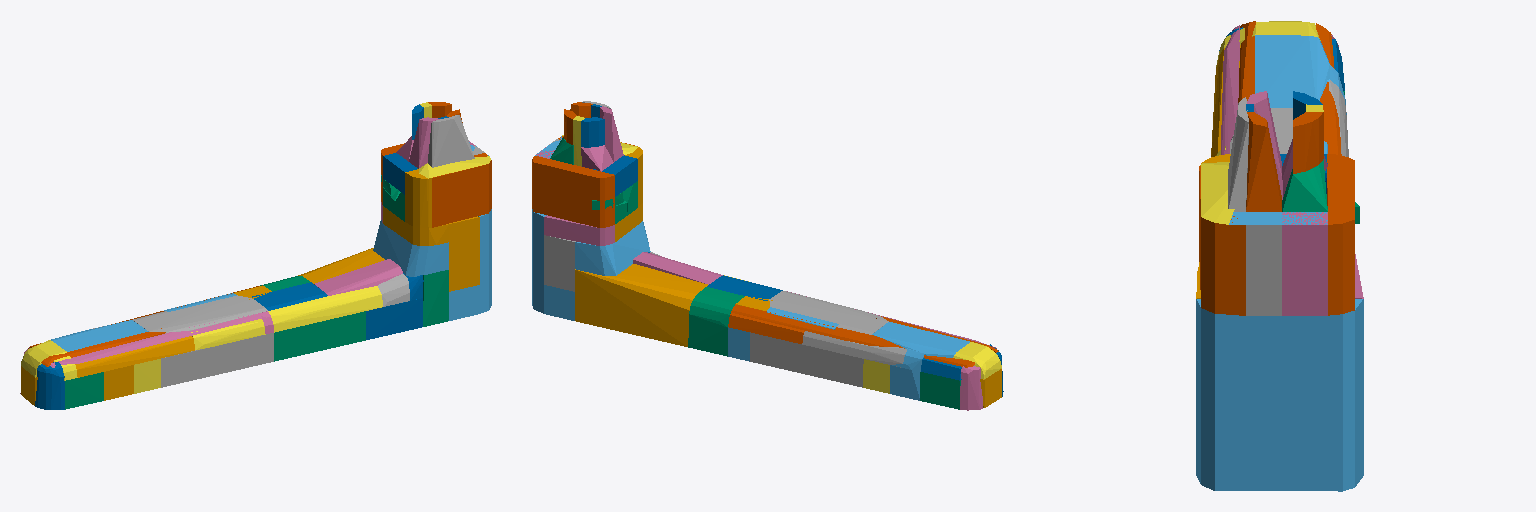
--- What the picture shows (computed from the rendered views, not written in the file) ---
The picture shows the robot from 3 angles, left to right: view 1: azimuth 30°, elevation 25°; view 2: azimuth 150°, elevation 25°; view 3: azimuth 270°, elevation 25°; orthographic projection.
Model root with 64 links and 63 joints (63 fixed), rooted at link_handle~handle4_convex_piece_0, posed every joint at zero.
Visible links, largest first — view 1: link_handle~handle4_convex_piece_63, link_handle~handle4_convex_piece_21, link_handle~handle4_convex_piece_58, link_handle~handle4_convex_piece_35, link_handle~handle4_convex_piece_47, link_handle~handle4_convex_piece_49, link_handle~handle4_convex_piece_8, link_handle~handle4_convex_piece_55, link_handle~handle4_convex_piece_48, link_handle~handle4_convex_piece_44, link_handle~handle4_convex_piece_46, link_handle~handle4_convex_piece_38 (+19 smaller); view 2: link_handle~handle4_convex_piece_56, link_handle~handle4_convex_piece_45, link_handle~handle4_convex_piece_63, link_handle~handle4_convex_piece_34, link_handle~handle4_convex_piece_49, link_handle~handle4_convex_piece_47, link_handle~handle4_convex_piece_61, link_handle~handle4_convex_piece_41, link_handle~handle4_convex_piece_7, link_handle~handle4_convex_piece_22, link_handle~handle4_convex_piece_57, link_handle~handle4_convex_piece_25 (+17 smaller); view 3: link_handle~handle4_convex_piece_25, link_handle~handle4_convex_piece_6, link_handle~handle4_convex_piece_41, link_handle~handle4_convex_piece_45, link_handle~handle4_convex_piece_21, link_handle~handle4_convex_piece_15, link_handle~handle4_convex_piece_53, link_handle~handle4_convex_piece_55, link_handle~handle4_convex_piece_26, link_handle~handle4_convex_piece_29, link_handle~handle4_convex_piece_38, link_handle~handle4_convex_piece_43 (+7 smaller).
Link boxes in pixels (<box>): link_handle~handle4_convex_piece_63: <box>161,333,273,387</box>; link_handle~handle4_convex_piece_21: <box>432,153,491,227</box>; link_handle~handle4_convex_piece_58: <box>274,311,365,361</box>; link_handle~handle4_convex_piece_35: <box>268,286,382,332</box>; link_handle~handle4_convex_piece_47: <box>134,295,267,333</box>; link_handle~handle4_convex_piece_49: <box>373,220,448,276</box>; link_handle~handle4_convex_piece_8: <box>449,216,479,291</box>; link_handle~handle4_convex_piece_55: <box>428,115,474,167</box>; link_handle~handle4_convex_piece_48: <box>75,336,194,377</box>; link_handle~handle4_convex_piece_44: <box>366,298,422,339</box>; link_handle~handle4_convex_piece_46: <box>314,259,402,295</box>; link_handle~handle4_convex_piece_38: <box>50,313,261,367</box>; link_handle~handle4_convex_piece_56: <box>575,264,707,346</box>; link_handle~handle4_convex_piece_45: <box>532,156,614,227</box>; link_handle~handle4_convex_piece_63: <box>750,332,863,387</box>; link_handle~handle4_convex_piece_34: <box>688,287,744,356</box>; link_handle~handle4_convex_piece_49: <box>575,221,650,275</box>; link_handle~handle4_convex_piece_47: <box>769,291,888,332</box>; link_handle~handle4_convex_piece_61: <box>731,304,974,367</box>; link_handle~handle4_convex_piece_41: <box>872,322,969,357</box>; link_handle~handle4_convex_piece_7: <box>544,235,575,291</box>; link_handle~handle4_convex_piece_22: <box>544,215,614,245</box>; link_handle~handle4_convex_piece_57: <box>890,348,924,400</box>; link_handle~handle4_convex_piece_25: <box>532,209,546,313</box>; link_handle~handle4_convex_piece_25: <box>1196,299,1363,491</box>; link_handle~handle4_convex_piece_6: <box>1282,212,1327,315</box>; link_handle~handle4_convex_piece_41: <box>1255,35,1329,107</box>; link_handle~handle4_convex_piece_45: <box>1327,154,1354,315</box>; link_handle~handle4_convex_piece_21: <box>1199,166,1245,315</box>; link_handle~handle4_convex_piece_15: <box>1246,225,1281,315</box>; link_handle~handle4_convex_piece_53: <box>1246,112,1281,211</box>; link_handle~handle4_convex_piece_55: <box>1228,97,1248,211</box>; link_handle~handle4_convex_piece_26: <box>1282,159,1327,211</box>; link_handle~handle4_convex_piece_29: <box>1293,112,1323,173</box>; link_handle~handle4_convex_piece_38: <box>1221,25,1239,154</box>; link_handle~handle4_convex_piece_43: <box>1201,162,1234,224</box>.
Bounding box of the posed robot: 0.1277 × 0.0227 × 0.052 m (x, y, z).
64 mesh visuals loaded from 64 distinct referenced files (64 OBJ).

The robot description file, URDF, robot "root":
<robot name="root">
  <link name="link_handle~handle4_convex_piece_0">
    <inertial>
      <origin xyz="0 0 0" rpy="0 0 0"/>
      <mass value="9.66E-04"/>
      <inertia ixx="1.10E-07" ixy="-2.01E-07" ixz="-5.53E-07" iyy="3.87E-06" iyz="-3.13E-08" izz="3.80E-06"/>
    </inertial>
    <visual>
      <origin xyz="0 0 0" rpy="0 0 0"/>
      <geometry>
        <mesh filename="handle~handle4_convex_piece_0.obj" scale="1.0000E+00 1.0000E+00 1.0000E+00"/>
      </geometry>
      <material name=""/>
    </visual>
    <collision>
      <origin xyz="0 0 0" rpy="0 0 0"/>
      <geometry>
        <mesh filename="handle~handle4_convex_piece_0.obj" scale="1.0000E+00 1.0000E+00 1.0000E+00"/>
      </geometry>
    </collision>
  </link>
  <link name="link_handle~handle4_convex_piece_1">
    <inertial>
      <origin xyz="0 0 0" rpy="0 0 0"/>
      <mass value="5.49E-04"/>
      <inertia ixx="7.18E-08" ixy="4.76E-08" ixz="-7.96E-08" iyy="1.89E-07" iyz="2.88E-08" izz="1.57E-07"/>
    </inertial>
    <visual>
      <origin xyz="0 0 0" rpy="0 0 0"/>
      <geometry>
        <mesh filename="handle~handle4_convex_piece_1.obj" scale="1.0000E+00 1.0000E+00 1.0000E+00"/>
      </geometry>
      <material name=""/>
    </visual>
    <collision>
      <origin xyz="0 0 0" rpy="0 0 0"/>
      <geometry>
        <mesh filename="handle~handle4_convex_piece_1.obj" scale="1.0000E+00 1.0000E+00 1.0000E+00"/>
      </geometry>
    </collision>
  </link>
  <joint name="link_handle~handle4_convex_piece_1_joint" type="fixed">
    <origin xyz="0 0 0" rpy="0 0 0"/>
    <parent link="link_handle~handle4_convex_piece_0"/>
    <child link="link_handle~handle4_convex_piece_1"/>
  </joint>
  <link name="link_handle~handle4_convex_piece_2">
    <inertial>
      <origin xyz="0 0 0" rpy="0 0 0"/>
      <mass value="1.30E-03"/>
      <inertia ixx="1.38E-07" ixy="1.82E-07" ixz="2.47E-07" iyy="1.01E-06" iyz="-4.94E-08" izz="9.71E-07"/>
    </inertial>
    <visual>
      <origin xyz="0 0 0" rpy="0 0 0"/>
      <geometry>
        <mesh filename="handle~handle4_convex_piece_2.obj" scale="1.0000E+00 1.0000E+00 1.0000E+00"/>
      </geometry>
      <material name=""/>
    </visual>
    <collision>
      <origin xyz="0 0 0" rpy="0 0 0"/>
      <geometry>
        <mesh filename="handle~handle4_convex_piece_2.obj" scale="1.0000E+00 1.0000E+00 1.0000E+00"/>
      </geometry>
    </collision>
  </link>
  <joint name="link_handle~handle4_convex_piece_2_joint" type="fixed">
    <origin xyz="0 0 0" rpy="0 0 0"/>
    <parent link="link_handle~handle4_convex_piece_1"/>
    <child link="link_handle~handle4_convex_piece_2"/>
  </joint>
  <link name="link_handle~handle4_convex_piece_3">
    <inertial>
      <origin xyz="0 0 0" rpy="0 0 0"/>
      <mass value="1.32E-03"/>
      <inertia ixx="1.67E-07" ixy="3.56E-09" ixz="-6.91E-07" iyy="4.07E-06" iyz="3.02E-10" izz="3.97E-06"/>
    </inertial>
    <visual>
      <origin xyz="0 0 0" rpy="0 0 0"/>
      <geometry>
        <mesh filename="handle~handle4_convex_piece_3.obj" scale="1.0000E+00 1.0000E+00 1.0000E+00"/>
      </geometry>
      <material name=""/>
    </visual>
    <collision>
      <origin xyz="0 0 0" rpy="0 0 0"/>
      <geometry>
        <mesh filename="handle~handle4_convex_piece_3.obj" scale="1.0000E+00 1.0000E+00 1.0000E+00"/>
      </geometry>
    </collision>
  </link>
  <joint name="link_handle~handle4_convex_piece_3_joint" type="fixed">
    <origin xyz="0 0 0" rpy="0 0 0"/>
    <parent link="link_handle~handle4_convex_piece_2"/>
    <child link="link_handle~handle4_convex_piece_3"/>
  </joint>
  <link name="link_handle~handle4_convex_piece_4">
    <inertial>
      <origin xyz="0 0 0" rpy="0 0 0"/>
      <mass value="1.26E-04"/>
      <inertia ixx="9.52E-09" ixy="2.07E-08" ixz="8.66E-09" iyy="5.88E-08" iyz="-3.23E-09" izz="6.50E-08"/>
    </inertial>
    <visual>
      <origin xyz="0 0 0" rpy="0 0 0"/>
      <geometry>
        <mesh filename="handle~handle4_convex_piece_4.obj" scale="1.0000E+00 1.0000E+00 1.0000E+00"/>
      </geometry>
      <material name=""/>
    </visual>
    <collision>
      <origin xyz="0 0 0" rpy="0 0 0"/>
      <geometry>
        <mesh filename="handle~handle4_convex_piece_4.obj" scale="1.0000E+00 1.0000E+00 1.0000E+00"/>
      </geometry>
    </collision>
  </link>
  <joint name="link_handle~handle4_convex_piece_4_joint" type="fixed">
    <origin xyz="0 0 0" rpy="0 0 0"/>
    <parent link="link_handle~handle4_convex_piece_3"/>
    <child link="link_handle~handle4_convex_piece_4"/>
  </joint>
  <link name="link_handle~handle4_convex_piece_5">
    <inertial>
      <origin xyz="0 0 0" rpy="0 0 0"/>
      <mass value="6.37E-05"/>
      <inertia ixx="4.13E-09" ixy="-8.38E-09" ixz="-1.26E-08" iyy="7.22E-08" iyz="-1.53E-09" izz="7.01E-08"/>
    </inertial>
    <visual>
      <origin xyz="0 0 0" rpy="0 0 0"/>
      <geometry>
        <mesh filename="handle~handle4_convex_piece_5.obj" scale="1.0000E+00 1.0000E+00 1.0000E+00"/>
      </geometry>
      <material name=""/>
    </visual>
    <collision>
      <origin xyz="0 0 0" rpy="0 0 0"/>
      <geometry>
        <mesh filename="handle~handle4_convex_piece_5.obj" scale="1.0000E+00 1.0000E+00 1.0000E+00"/>
      </geometry>
    </collision>
  </link>
  <joint name="link_handle~handle4_convex_piece_5_joint" type="fixed">
    <origin xyz="0 0 0" rpy="0 0 0"/>
    <parent link="link_handle~handle4_convex_piece_4"/>
    <child link="link_handle~handle4_convex_piece_5"/>
  </joint>
  <link name="link_handle~handle4_convex_piece_6">
    <inertial>
      <origin xyz="0 0 0" rpy="0 0 0"/>
      <mass value="4.26E-04"/>
      <inertia ixx="1.64E-07" ixy="-5.77E-08" ixz="-3.39E-07" iyy="9.14E-07" iyz="-2.60E-08" izz="7.62E-07"/>
    </inertial>
    <visual>
      <origin xyz="0 0 0" rpy="0 0 0"/>
      <geometry>
        <mesh filename="handle~handle4_convex_piece_6.obj" scale="1.0000E+00 1.0000E+00 1.0000E+00"/>
      </geometry>
      <material name=""/>
    </visual>
    <collision>
      <origin xyz="0 0 0" rpy="0 0 0"/>
      <geometry>
        <mesh filename="handle~handle4_convex_piece_6.obj" scale="1.0000E+00 1.0000E+00 1.0000E+00"/>
      </geometry>
    </collision>
  </link>
  <joint name="link_handle~handle4_convex_piece_6_joint" type="fixed">
    <origin xyz="0 0 0" rpy="0 0 0"/>
    <parent link="link_handle~handle4_convex_piece_5"/>
    <child link="link_handle~handle4_convex_piece_6"/>
  </joint>
  <link name="link_handle~handle4_convex_piece_7">
    <inertial>
      <origin xyz="0 0 0" rpy="0 0 0"/>
      <mass value="7.29E-04"/>
      <inertia ixx="6.05E-08" ixy="-2.02E-07" ixz="-1.78E-08" iyy="8.79E-07" iyz="-3.95E-09" izz="9.18E-07"/>
    </inertial>
    <visual>
      <origin xyz="0 0 0" rpy="0 0 0"/>
      <geometry>
        <mesh filename="handle~handle4_convex_piece_7.obj" scale="1.0000E+00 1.0000E+00 1.0000E+00"/>
      </geometry>
      <material name=""/>
    </visual>
    <collision>
      <origin xyz="0 0 0" rpy="0 0 0"/>
      <geometry>
        <mesh filename="handle~handle4_convex_piece_7.obj" scale="1.0000E+00 1.0000E+00 1.0000E+00"/>
      </geometry>
    </collision>
  </link>
  <joint name="link_handle~handle4_convex_piece_7_joint" type="fixed">
    <origin xyz="0 0 0" rpy="0 0 0"/>
    <parent link="link_handle~handle4_convex_piece_6"/>
    <child link="link_handle~handle4_convex_piece_7"/>
  </joint>
  <link name="link_handle~handle4_convex_piece_8">
    <inertial>
      <origin xyz="0 0 0" rpy="0 0 0"/>
      <mass value="1.00E-03"/>
      <inertia ixx="1.05E-07" ixy="2.76E-07" ixz="-1.09E-07" iyy="1.23E-06" iyz="2.52E-08" izz="1.26E-06"/>
    </inertial>
    <visual>
      <origin xyz="0 0 0" rpy="0 0 0"/>
      <geometry>
        <mesh filename="handle~handle4_convex_piece_8.obj" scale="1.0000E+00 1.0000E+00 1.0000E+00"/>
      </geometry>
      <material name=""/>
    </visual>
    <collision>
      <origin xyz="0 0 0" rpy="0 0 0"/>
      <geometry>
        <mesh filename="handle~handle4_convex_piece_8.obj" scale="1.0000E+00 1.0000E+00 1.0000E+00"/>
      </geometry>
    </collision>
  </link>
  <joint name="link_handle~handle4_convex_piece_8_joint" type="fixed">
    <origin xyz="0 0 0" rpy="0 0 0"/>
    <parent link="link_handle~handle4_convex_piece_7"/>
    <child link="link_handle~handle4_convex_piece_8"/>
  </joint>
  <link name="link_handle~handle4_convex_piece_9">
    <inertial>
      <origin xyz="0 0 0" rpy="0 0 0"/>
      <mass value="0.00E+00"/>
      <inertia ixx="5.80E-23" ixy="-0.00E+00" ixz="-5.80E-23" iyy="5.80E-23" iyz="-0.00E+00" izz="0.00E+00"/>
    </inertial>
    <visual>
      <origin xyz="0 0 0" rpy="0 0 0"/>
      <geometry>
        <mesh filename="handle~handle4_convex_piece_9.obj" scale="1.0000E+00 1.0000E+00 1.0000E+00"/>
      </geometry>
      <material name=""/>
    </visual>
    <collision>
      <origin xyz="0 0 0" rpy="0 0 0"/>
      <geometry>
        <mesh filename="handle~handle4_convex_piece_9.obj" scale="1.0000E+00 1.0000E+00 1.0000E+00"/>
      </geometry>
    </collision>
  </link>
  <joint name="link_handle~handle4_convex_piece_9_joint" type="fixed">
    <origin xyz="0 0 0" rpy="0 0 0"/>
    <parent link="link_handle~handle4_convex_piece_8"/>
    <child link="link_handle~handle4_convex_piece_9"/>
  </joint>
  <link name="link_handle~handle4_convex_piece_10">
    <inertial>
      <origin xyz="0 0 0" rpy="0 0 0"/>
      <mass value="7.95E-05"/>
      <inertia ixx="2.95E-08" ixy="-1.14E-08" ixz="-3.44E-08" iyy="7.14E-08" iyz="-8.72E-09" izz="4.84E-08"/>
    </inertial>
    <visual>
      <origin xyz="0 0 0" rpy="0 0 0"/>
      <geometry>
        <mesh filename="handle~handle4_convex_piece_10.obj" scale="1.0000E+00 1.0000E+00 1.0000E+00"/>
      </geometry>
      <material name=""/>
    </visual>
    <collision>
      <origin xyz="0 0 0" rpy="0 0 0"/>
      <geometry>
        <mesh filename="handle~handle4_convex_piece_10.obj" scale="1.0000E+00 1.0000E+00 1.0000E+00"/>
      </geometry>
    </collision>
  </link>
  <joint name="link_handle~handle4_convex_piece_10_joint" type="fixed">
    <origin xyz="0 0 0" rpy="0 0 0"/>
    <parent link="link_handle~handle4_convex_piece_9"/>
    <child link="link_handle~handle4_convex_piece_10"/>
  </joint>
  <link name="link_handle~handle4_convex_piece_11">
    <inertial>
      <origin xyz="0 0 0" rpy="0 0 0"/>
      <mass value="1.10E-04"/>
      <inertia ixx="8.50E-08" ixy="-1.58E-08" ixz="-9.57E-08" iyy="2.02E-07" iyz="-1.29E-08" izz="1.21E-07"/>
    </inertial>
    <visual>
      <origin xyz="0 0 0" rpy="0 0 0"/>
      <geometry>
        <mesh filename="handle~handle4_convex_piece_11.obj" scale="1.0000E+00 1.0000E+00 1.0000E+00"/>
      </geometry>
      <material name=""/>
    </visual>
    <collision>
      <origin xyz="0 0 0" rpy="0 0 0"/>
      <geometry>
        <mesh filename="handle~handle4_convex_piece_11.obj" scale="1.0000E+00 1.0000E+00 1.0000E+00"/>
      </geometry>
    </collision>
  </link>
  <joint name="link_handle~handle4_convex_piece_11_joint" type="fixed">
    <origin xyz="0 0 0" rpy="0 0 0"/>
    <parent link="link_handle~handle4_convex_piece_10"/>
    <child link="link_handle~handle4_convex_piece_11"/>
  </joint>
  <link name="link_handle~handle4_convex_piece_12">
    <inertial>
      <origin xyz="0 0 0" rpy="0 0 0"/>
      <mass value="5.61E-05"/>
      <inertia ixx="4.03E-09" ixy="2.89E-08" ixz="-1.80E-08" iyy="2.95E-07" iyz="1.80E-09" izz="2.97E-07"/>
    </inertial>
    <visual>
      <origin xyz="0 0 0" rpy="0 0 0"/>
      <geometry>
        <mesh filename="handle~handle4_convex_piece_12.obj" scale="1.0000E+00 1.0000E+00 1.0000E+00"/>
      </geometry>
      <material name=""/>
    </visual>
    <collision>
      <origin xyz="0 0 0" rpy="0 0 0"/>
      <geometry>
        <mesh filename="handle~handle4_convex_piece_12.obj" scale="1.0000E+00 1.0000E+00 1.0000E+00"/>
      </geometry>
    </collision>
  </link>
  <joint name="link_handle~handle4_convex_piece_12_joint" type="fixed">
    <origin xyz="0 0 0" rpy="0 0 0"/>
    <parent link="link_handle~handle4_convex_piece_11"/>
    <child link="link_handle~handle4_convex_piece_12"/>
  </joint>
  <link name="link_handle~handle4_convex_piece_13">
    <inertial>
      <origin xyz="0 0 0" rpy="0 0 0"/>
      <mass value="1.04E-04"/>
      <inertia ixx="9.45E-09" ixy="1.99E-08" ixz="-1.05E-08" iyy="6.02E-08" iyz="3.88E-09" izz="6.54E-08"/>
    </inertial>
    <visual>
      <origin xyz="0 0 0" rpy="0 0 0"/>
      <geometry>
        <mesh filename="handle~handle4_convex_piece_13.obj" scale="1.0000E+00 1.0000E+00 1.0000E+00"/>
      </geometry>
      <material name=""/>
    </visual>
    <collision>
      <origin xyz="0 0 0" rpy="0 0 0"/>
      <geometry>
        <mesh filename="handle~handle4_convex_piece_13.obj" scale="1.0000E+00 1.0000E+00 1.0000E+00"/>
      </geometry>
    </collision>
  </link>
  <joint name="link_handle~handle4_convex_piece_13_joint" type="fixed">
    <origin xyz="0 0 0" rpy="0 0 0"/>
    <parent link="link_handle~handle4_convex_piece_12"/>
    <child link="link_handle~handle4_convex_piece_13"/>
  </joint>
  <link name="link_handle~handle4_convex_piece_14">
    <inertial>
      <origin xyz="0 0 0" rpy="0 0 0"/>
      <mass value="1.01E-04"/>
      <inertia ixx="1.33E-08" ixy="5.02E-08" ixz="-7.29E-08" iyy="6.50E-07" iyz="5.75E-09" izz="6.45E-07"/>
    </inertial>
    <visual>
      <origin xyz="0 0 0" rpy="0 0 0"/>
      <geometry>
        <mesh filename="handle~handle4_convex_piece_14.obj" scale="1.0000E+00 1.0000E+00 1.0000E+00"/>
      </geometry>
      <material name=""/>
    </visual>
    <collision>
      <origin xyz="0 0 0" rpy="0 0 0"/>
      <geometry>
        <mesh filename="handle~handle4_convex_piece_14.obj" scale="1.0000E+00 1.0000E+00 1.0000E+00"/>
      </geometry>
    </collision>
  </link>
  <joint name="link_handle~handle4_convex_piece_14_joint" type="fixed">
    <origin xyz="0 0 0" rpy="0 0 0"/>
    <parent link="link_handle~handle4_convex_piece_13"/>
    <child link="link_handle~handle4_convex_piece_14"/>
  </joint>
  <link name="link_handle~handle4_convex_piece_15">
    <inertial>
      <origin xyz="0 0 0" rpy="0 0 0"/>
      <mass value="6.59E-04"/>
      <inertia ixx="2.51E-07" ixy="5.80E-08" ixz="-4.97E-07" iyy="1.30E-06" iyz="2.77E-08" izz="1.06E-06"/>
    </inertial>
    <visual>
      <origin xyz="0 0 0" rpy="0 0 0"/>
      <geometry>
        <mesh filename="handle~handle4_convex_piece_15.obj" scale="1.0000E+00 1.0000E+00 1.0000E+00"/>
      </geometry>
      <material name=""/>
    </visual>
    <collision>
      <origin xyz="0 0 0" rpy="0 0 0"/>
      <geometry>
        <mesh filename="handle~handle4_convex_piece_15.obj" scale="1.0000E+00 1.0000E+00 1.0000E+00"/>
      </geometry>
    </collision>
  </link>
  <joint name="link_handle~handle4_convex_piece_15_joint" type="fixed">
    <origin xyz="0 0 0" rpy="0 0 0"/>
    <parent link="link_handle~handle4_convex_piece_14"/>
    <child link="link_handle~handle4_convex_piece_15"/>
  </joint>
  <link name="link_handle~handle4_convex_piece_16">
    <inertial>
      <origin xyz="0 0 0" rpy="0 0 0"/>
      <mass value="3.86E-04"/>
      <inertia ixx="4.54E-08" ixy="2.09E-08" ixz="-3.15E-07" iyy="2.54E-06" iyz="2.73E-09" izz="2.50E-06"/>
    </inertial>
    <visual>
      <origin xyz="0 0 0" rpy="0 0 0"/>
      <geometry>
        <mesh filename="handle~handle4_convex_piece_16.obj" scale="1.0000E+00 1.0000E+00 1.0000E+00"/>
      </geometry>
      <material name=""/>
    </visual>
    <collision>
      <origin xyz="0 0 0" rpy="0 0 0"/>
      <geometry>
        <mesh filename="handle~handle4_convex_piece_16.obj" scale="1.0000E+00 1.0000E+00 1.0000E+00"/>
      </geometry>
    </collision>
  </link>
  <joint name="link_handle~handle4_convex_piece_16_joint" type="fixed">
    <origin xyz="0 0 0" rpy="0 0 0"/>
    <parent link="link_handle~handle4_convex_piece_15"/>
    <child link="link_handle~handle4_convex_piece_16"/>
  </joint>
  <link name="link_handle~handle4_convex_piece_17">
    <inertial>
      <origin xyz="0 0 0" rpy="0 0 0"/>
      <mass value="1.62E-03"/>
      <inertia ixx="2.50E-07" ixy="-6.40E-10" ixz="5.82E-07" iyy="2.15E-06" iyz="1.82E-10" izz="2.04E-06"/>
    </inertial>
    <visual>
      <origin xyz="0 0 0" rpy="0 0 0"/>
      <geometry>
        <mesh filename="handle~handle4_convex_piece_17.obj" scale="1.0000E+00 1.0000E+00 1.0000E+00"/>
      </geometry>
      <material name=""/>
    </visual>
    <collision>
      <origin xyz="0 0 0" rpy="0 0 0"/>
      <geometry>
        <mesh filename="handle~handle4_convex_piece_17.obj" scale="1.0000E+00 1.0000E+00 1.0000E+00"/>
      </geometry>
    </collision>
  </link>
  <joint name="link_handle~handle4_convex_piece_17_joint" type="fixed">
    <origin xyz="0 0 0" rpy="0 0 0"/>
    <parent link="link_handle~handle4_convex_piece_16"/>
    <child link="link_handle~handle4_convex_piece_17"/>
  </joint>
  <link name="link_handle~handle4_convex_piece_18">
    <inertial>
      <origin xyz="0 0 0" rpy="0 0 0"/>
      <mass value="1.58E-03"/>
      <inertia ixx="2.16E-07" ixy="1.80E-09" ixz="-1.18E-06" iyy="8.41E-06" iyz="1.77E-10" izz="8.28E-06"/>
    </inertial>
    <visual>
      <origin xyz="0 0 0" rpy="0 0 0"/>
      <geometry>
        <mesh filename="handle~handle4_convex_piece_18.obj" scale="1.0000E+00 1.0000E+00 1.0000E+00"/>
      </geometry>
      <material name=""/>
    </visual>
    <collision>
      <origin xyz="0 0 0" rpy="0 0 0"/>
      <geometry>
        <mesh filename="handle~handle4_convex_piece_18.obj" scale="1.0000E+00 1.0000E+00 1.0000E+00"/>
      </geometry>
    </collision>
  </link>
  <joint name="link_handle~handle4_convex_piece_18_joint" type="fixed">
    <origin xyz="0 0 0" rpy="0 0 0"/>
    <parent link="link_handle~handle4_convex_piece_17"/>
    <child link="link_handle~handle4_convex_piece_18"/>
  </joint>
  <link name="link_handle~handle4_convex_piece_19">
    <inertial>
      <origin xyz="0 0 0" rpy="0 0 0"/>
      <mass value="3.68E-04"/>
      <inertia ixx="1.62E-08" ixy="-1.26E-12" ixz="-4.61E-08" iyy="5.04E-07" iyz="-1.18E-13" izz="4.93E-07"/>
    </inertial>
    <visual>
      <origin xyz="0 0 0" rpy="0 0 0"/>
      <geometry>
        <mesh filename="handle~handle4_convex_piece_19.obj" scale="1.0000E+00 1.0000E+00 1.0000E+00"/>
      </geometry>
      <material name=""/>
    </visual>
    <collision>
      <origin xyz="0 0 0" rpy="0 0 0"/>
      <geometry>
        <mesh filename="handle~handle4_convex_piece_19.obj" scale="1.0000E+00 1.0000E+00 1.0000E+00"/>
      </geometry>
    </collision>
  </link>
  <joint name="link_handle~handle4_convex_piece_19_joint" type="fixed">
    <origin xyz="0 0 0" rpy="0 0 0"/>
    <parent link="link_handle~handle4_convex_piece_18"/>
    <child link="link_handle~handle4_convex_piece_19"/>
  </joint>
  <link name="link_handle~handle4_convex_piece_20">
    <inertial>
      <origin xyz="0 0 0" rpy="0 0 0"/>
      <mass value="1.97E-04"/>
      <inertia ixx="2.42E-08" ixy="-8.39E-08" ixz="-1.43E-07" iyy="1.27E-06" iyz="-9.59E-09" izz="1.26E-06"/>
    </inertial>
    <visual>
      <origin xyz="0 0 0" rpy="0 0 0"/>
      <geometry>
        <mesh filename="handle~handle4_convex_piece_20.obj" scale="1.0000E+00 1.0000E+00 1.0000E+00"/>
      </geometry>
      <material name=""/>
    </visual>
    <collision>
      <origin xyz="0 0 0" rpy="0 0 0"/>
      <geometry>
        <mesh filename="handle~handle4_convex_piece_20.obj" scale="1.0000E+00 1.0000E+00 1.0000E+00"/>
      </geometry>
    </collision>
  </link>
  <joint name="link_handle~handle4_convex_piece_20_joint" type="fixed">
    <origin xyz="0 0 0" rpy="0 0 0"/>
    <parent link="link_handle~handle4_convex_piece_19"/>
    <child link="link_handle~handle4_convex_piece_20"/>
  </joint>
  <link name="link_handle~handle4_convex_piece_21">
    <inertial>
      <origin xyz="0 0 0" rpy="0 0 0"/>
      <mass value="1.69E-03"/>
      <inertia ixx="7.28E-07" ixy="4.37E-07" ixz="-1.09E-06" iyy="2.65E-06" iyz="2.41E-07" izz="2.13E-06"/>
    </inertial>
    <visual>
      <origin xyz="0 0 0" rpy="0 0 0"/>
      <geometry>
        <mesh filename="handle~handle4_convex_piece_21.obj" scale="1.0000E+00 1.0000E+00 1.0000E+00"/>
      </geometry>
      <material name=""/>
    </visual>
    <collision>
      <origin xyz="0 0 0" rpy="0 0 0"/>
      <geometry>
        <mesh filename="handle~handle4_convex_piece_21.obj" scale="1.0000E+00 1.0000E+00 1.0000E+00"/>
      </geometry>
    </collision>
  </link>
  <joint name="link_handle~handle4_convex_piece_21_joint" type="fixed">
    <origin xyz="0 0 0" rpy="0 0 0"/>
    <parent link="link_handle~handle4_convex_piece_20"/>
    <child link="link_handle~handle4_convex_piece_21"/>
  </joint>
  <link name="link_handle~handle4_convex_piece_22">
    <inertial>
      <origin xyz="0 0 0" rpy="0 0 0"/>
      <mass value="4.37E-04"/>
      <inertia ixx="7.14E-08" ixy="-1.10E-07" ixz="-1.32E-07" iyy="4.75E-07" iyz="-3.41E-08" izz="4.63E-07"/>
    </inertial>
    <visual>
      <origin xyz="0 0 0" rpy="0 0 0"/>
      <geometry>
        <mesh filename="handle~handle4_convex_piece_22.obj" scale="1.0000E+00 1.0000E+00 1.0000E+00"/>
      </geometry>
      <material name=""/>
    </visual>
    <collision>
      <origin xyz="0 0 0" rpy="0 0 0"/>
      <geometry>
        <mesh filename="handle~handle4_convex_piece_22.obj" scale="1.0000E+00 1.0000E+00 1.0000E+00"/>
      </geometry>
    </collision>
  </link>
  <joint name="link_handle~handle4_convex_piece_22_joint" type="fixed">
    <origin xyz="0 0 0" rpy="0 0 0"/>
    <parent link="link_handle~handle4_convex_piece_21"/>
    <child link="link_handle~handle4_convex_piece_22"/>
  </joint>
  <link name="link_handle~handle4_convex_piece_23">
    <inertial>
      <origin xyz="0 0 0" rpy="0 0 0"/>
      <mass value="5.21E-05"/>
      <inertia ixx="4.34E-09" ixy="2.30E-08" ixz="-1.30E-08" iyy="1.66E-07" iyz="1.86E-09" izz="1.68E-07"/>
    </inertial>
    <visual>
      <origin xyz="0 0 0" rpy="0 0 0"/>
      <geometry>
        <mesh filename="handle~handle4_convex_piece_23.obj" scale="1.0000E+00 1.0000E+00 1.0000E+00"/>
      </geometry>
      <material name=""/>
    </visual>
    <collision>
      <origin xyz="0 0 0" rpy="0 0 0"/>
      <geometry>
        <mesh filename="handle~handle4_convex_piece_23.obj" scale="1.0000E+00 1.0000E+00 1.0000E+00"/>
      </geometry>
    </collision>
  </link>
  <joint name="link_handle~handle4_convex_piece_23_joint" type="fixed">
    <origin xyz="0 0 0" rpy="0 0 0"/>
    <parent link="link_handle~handle4_convex_piece_22"/>
    <child link="link_handle~handle4_convex_piece_23"/>
  </joint>
  <link name="link_handle~handle4_convex_piece_24">
    <inertial>
      <origin xyz="0 0 0" rpy="0 0 0"/>
      <mass value="2.36E-04"/>
      <inertia ixx="1.08E-07" ixy="4.22E-08" ixz="-1.10E-07" iyy="2.28E-07" iyz="3.44E-08" izz="1.48E-07"/>
    </inertial>
    <visual>
      <origin xyz="0 0 0" rpy="0 0 0"/>
      <geometry>
        <mesh filename="handle~handle4_convex_piece_24.obj" scale="1.0000E+00 1.0000E+00 1.0000E+00"/>
      </geometry>
      <material name=""/>
    </visual>
    <collision>
      <origin xyz="0 0 0" rpy="0 0 0"/>
      <geometry>
        <mesh filename="handle~handle4_convex_piece_24.obj" scale="1.0000E+00 1.0000E+00 1.0000E+00"/>
      </geometry>
    </collision>
  </link>
  <joint name="link_handle~handle4_convex_piece_24_joint" type="fixed">
    <origin xyz="0 0 0" rpy="0 0 0"/>
    <parent link="link_handle~handle4_convex_piece_23"/>
    <child link="link_handle~handle4_convex_piece_24"/>
  </joint>
  <link name="link_handle~handle4_convex_piece_25">
    <inertial>
      <origin xyz="0 0 0" rpy="0 0 0"/>
      <mass value="2.85E-03"/>
      <inertia ixx="2.75E-07" ixy="-2.49E-10" ixz="1.26E-07" iyy="5.06E-06" iyz="-4.95E-12" izz="5.00E-06"/>
    </inertial>
    <visual>
      <origin xyz="0 0 0" rpy="0 0 0"/>
      <geometry>
        <mesh filename="handle~handle4_convex_piece_25.obj" scale="1.0000E+00 1.0000E+00 1.0000E+00"/>
      </geometry>
      <material name=""/>
    </visual>
    <collision>
      <origin xyz="0 0 0" rpy="0 0 0"/>
      <geometry>
        <mesh filename="handle~handle4_convex_piece_25.obj" scale="1.0000E+00 1.0000E+00 1.0000E+00"/>
      </geometry>
    </collision>
  </link>
  <joint name="link_handle~handle4_convex_piece_25_joint" type="fixed">
    <origin xyz="0 0 0" rpy="0 0 0"/>
    <parent link="link_handle~handle4_convex_piece_24"/>
    <child link="link_handle~handle4_convex_piece_25"/>
  </joint>
  <link name="link_handle~handle4_convex_piece_26">
    <inertial>
      <origin xyz="0 0 0" rpy="0 0 0"/>
      <mass value="5.97E-04"/>
      <inertia ixx="2.83E-07" ixy="-8.32E-08" ixz="-4.70E-07" iyy="1.13E-06" iyz="-4.53E-08" izz="8.68E-07"/>
    </inertial>
    <visual>
      <origin xyz="0 0 0" rpy="0 0 0"/>
      <geometry>
        <mesh filename="handle~handle4_convex_piece_26.obj" scale="1.0000E+00 1.0000E+00 1.0000E+00"/>
      </geometry>
      <material name=""/>
    </visual>
    <collision>
      <origin xyz="0 0 0" rpy="0 0 0"/>
      <geometry>
        <mesh filename="handle~handle4_convex_piece_26.obj" scale="1.0000E+00 1.0000E+00 1.0000E+00"/>
      </geometry>
    </collision>
  </link>
  <joint name="link_handle~handle4_convex_piece_26_joint" type="fixed">
    <origin xyz="0 0 0" rpy="0 0 0"/>
    <parent link="link_handle~handle4_convex_piece_25"/>
    <child link="link_handle~handle4_convex_piece_26"/>
  </joint>
  <link name="link_handle~handle4_convex_piece_27">
    <inertial>
      <origin xyz="0 0 0" rpy="0 0 0"/>
      <mass value="9.42E-05"/>
      <inertia ixx="8.77E-09" ixy="-2.44E-08" ixz="-1.29E-08" iyy="9.31E-08" iyz="-3.61E-09" izz="9.79E-08"/>
    </inertial>
    <visual>
      <origin xyz="0 0 0" rpy="0 0 0"/>
      <geometry>
        <mesh filename="handle~handle4_convex_piece_27.obj" scale="1.0000E+00 1.0000E+00 1.0000E+00"/>
      </geometry>
      <material name=""/>
    </visual>
    <collision>
      <origin xyz="0 0 0" rpy="0 0 0"/>
      <geometry>
        <mesh filename="handle~handle4_convex_piece_27.obj" scale="1.0000E+00 1.0000E+00 1.0000E+00"/>
      </geometry>
    </collision>
  </link>
  <joint name="link_handle~handle4_convex_piece_27_joint" type="fixed">
    <origin xyz="0 0 0" rpy="0 0 0"/>
    <parent link="link_handle~handle4_convex_piece_26"/>
    <child link="link_handle~handle4_convex_piece_27"/>
  </joint>
  <link name="link_handle~handle4_convex_piece_28">
    <inertial>
      <origin xyz="0 0 0" rpy="0 0 0"/>
      <mass value="7.24E-05"/>
      <inertia ixx="8.57E-08" ixy="-7.64E-09" ixz="-7.39E-08" iyy="1.49E-07" iyz="-8.68E-09" izz="6.56E-08"/>
    </inertial>
    <visual>
      <origin xyz="0 0 0" rpy="0 0 0"/>
      <geometry>
        <mesh filename="handle~handle4_convex_piece_28.obj" scale="1.0000E+00 1.0000E+00 1.0000E+00"/>
      </geometry>
      <material name=""/>
    </visual>
    <collision>
      <origin xyz="0 0 0" rpy="0 0 0"/>
      <geometry>
        <mesh filename="handle~handle4_convex_piece_28.obj" scale="1.0000E+00 1.0000E+00 1.0000E+00"/>
      </geometry>
    </collision>
  </link>
  <joint name="link_handle~handle4_convex_piece_28_joint" type="fixed">
    <origin xyz="0 0 0" rpy="0 0 0"/>
    <parent link="link_handle~handle4_convex_piece_27"/>
    <child link="link_handle~handle4_convex_piece_28"/>
  </joint>
  <link name="link_handle~handle4_convex_piece_29">
    <inertial>
      <origin xyz="0 0 0" rpy="0 0 0"/>
      <mass value="8.22E-05"/>
      <inertia ixx="9.76E-08" ixy="-1.06E-08" ixz="-1.02E-07" iyy="2.04E-07" iyz="-1.01E-08" izz="1.09E-07"/>
    </inertial>
    <visual>
      <origin xyz="0 0 0" rpy="0 0 0"/>
      <geometry>
        <mesh filename="handle~handle4_convex_piece_29.obj" scale="1.0000E+00 1.0000E+00 1.0000E+00"/>
      </geometry>
      <material name=""/>
    </visual>
    <collision>
      <origin xyz="0 0 0" rpy="0 0 0"/>
      <geometry>
        <mesh filename="handle~handle4_convex_piece_29.obj" scale="1.0000E+00 1.0000E+00 1.0000E+00"/>
      </geometry>
    </collision>
  </link>
  <joint name="link_handle~handle4_convex_piece_29_joint" type="fixed">
    <origin xyz="0 0 0" rpy="0 0 0"/>
    <parent link="link_handle~handle4_convex_piece_28"/>
    <child link="link_handle~handle4_convex_piece_29"/>
  </joint>
  <link name="link_handle~handle4_convex_piece_30">
    <inertial>
      <origin xyz="0 0 0" rpy="0 0 0"/>
      <mass value="2.30E-05"/>
      <inertia ixx="1.69E-09" ixy="-3.50E-09" ixz="-1.66E-09" iyy="9.55E-09" iyz="-6.53E-10" izz="1.06E-08"/>
    </inertial>
    <visual>
      <origin xyz="0 0 0" rpy="0 0 0"/>
      <geometry>
        <mesh filename="handle~handle4_convex_piece_30.obj" scale="1.0000E+00 1.0000E+00 1.0000E+00"/>
      </geometry>
      <material name=""/>
    </visual>
    <collision>
      <origin xyz="0 0 0" rpy="0 0 0"/>
      <geometry>
        <mesh filename="handle~handle4_convex_piece_30.obj" scale="1.0000E+00 1.0000E+00 1.0000E+00"/>
      </geometry>
    </collision>
  </link>
  <joint name="link_handle~handle4_convex_piece_30_joint" type="fixed">
    <origin xyz="0 0 0" rpy="0 0 0"/>
    <parent link="link_handle~handle4_convex_piece_29"/>
    <child link="link_handle~handle4_convex_piece_30"/>
  </joint>
  <link name="link_handle~handle4_convex_piece_31">
    <inertial>
      <origin xyz="0 0 0" rpy="0 0 0"/>
      <mass value="6.12E-05"/>
      <inertia ixx="5.96E-09" ixy="8.94E-09" ixz="3.44E-09" iyy="1.70E-08" iyz="-2.02E-09" izz="2.12E-08"/>
    </inertial>
    <visual>
      <origin xyz="0 0 0" rpy="0 0 0"/>
      <geometry>
        <mesh filename="handle~handle4_convex_piece_31.obj" scale="1.0000E+00 1.0000E+00 1.0000E+00"/>
      </geometry>
      <material name=""/>
    </visual>
    <collision>
      <origin xyz="0 0 0" rpy="0 0 0"/>
      <geometry>
        <mesh filename="handle~handle4_convex_piece_31.obj" scale="1.0000E+00 1.0000E+00 1.0000E+00"/>
      </geometry>
    </collision>
  </link>
  <joint name="link_handle~handle4_convex_piece_31_joint" type="fixed">
    <origin xyz="0 0 0" rpy="0 0 0"/>
    <parent link="link_handle~handle4_convex_piece_30"/>
    <child link="link_handle~handle4_convex_piece_31"/>
  </joint>
  <link name="link_handle~handle4_convex_piece_32">
    <inertial>
      <origin xyz="0 0 0" rpy="0 0 0"/>
      <mass value="7.07E-04"/>
      <inertia ixx="8.77E-08" ixy="4.75E-08" ixz="-1.80E-07" iyy="5.57E-07" iyz="1.71E-08" izz="5.09E-07"/>
    </inertial>
    <visual>
      <origin xyz="0 0 0" rpy="0 0 0"/>
      <geometry>
        <mesh filename="handle~handle4_convex_piece_32.obj" scale="1.0000E+00 1.0000E+00 1.0000E+00"/>
      </geometry>
      <material name=""/>
    </visual>
    <collision>
      <origin xyz="0 0 0" rpy="0 0 0"/>
      <geometry>
        <mesh filename="handle~handle4_convex_piece_32.obj" scale="1.0000E+00 1.0000E+00 1.0000E+00"/>
      </geometry>
    </collision>
  </link>
  <joint name="link_handle~handle4_convex_piece_32_joint" type="fixed">
    <origin xyz="0 0 0" rpy="0 0 0"/>
    <parent link="link_handle~handle4_convex_piece_31"/>
    <child link="link_handle~handle4_convex_piece_32"/>
  </joint>
  <link name="link_handle~handle4_convex_piece_33">
    <inertial>
      <origin xyz="0 0 0" rpy="0 0 0"/>
      <mass value="1.36E-04"/>
      <inertia ixx="6.46E-09" ixy="2.48E-08" ixz="-1.21E-08" iyy="1.31E-07" iyz="2.56E-09" izz="1.34E-07"/>
    </inertial>
    <visual>
      <origin xyz="0 0 0" rpy="0 0 0"/>
      <geometry>
        <mesh filename="handle~handle4_convex_piece_33.obj" scale="1.0000E+00 1.0000E+00 1.0000E+00"/>
      </geometry>
      <material name=""/>
    </visual>
    <collision>
      <origin xyz="0 0 0" rpy="0 0 0"/>
      <geometry>
        <mesh filename="handle~handle4_convex_piece_33.obj" scale="1.0000E+00 1.0000E+00 1.0000E+00"/>
      </geometry>
    </collision>
  </link>
  <joint name="link_handle~handle4_convex_piece_33_joint" type="fixed">
    <origin xyz="0 0 0" rpy="0 0 0"/>
    <parent link="link_handle~handle4_convex_piece_32"/>
    <child link="link_handle~handle4_convex_piece_33"/>
  </joint>
  <link name="link_handle~handle4_convex_piece_34">
    <inertial>
      <origin xyz="0 0 0" rpy="0 0 0"/>
      <mass value="1.24E-03"/>
      <inertia ixx="1.46E-07" ixy="4.99E-08" ixz="-7.10E-08" iyy="1.72E-07" iyz="5.89E-08" izz="1.22E-07"/>
    </inertial>
    <visual>
      <origin xyz="0 0 0" rpy="0 0 0"/>
      <geometry>
        <mesh filename="handle~handle4_convex_piece_34.obj" scale="1.0000E+00 1.0000E+00 1.0000E+00"/>
      </geometry>
      <material name=""/>
    </visual>
    <collision>
      <origin xyz="0 0 0" rpy="0 0 0"/>
      <geometry>
        <mesh filename="handle~handle4_convex_piece_34.obj" scale="1.0000E+00 1.0000E+00 1.0000E+00"/>
      </geometry>
    </collision>
  </link>
  <joint name="link_handle~handle4_convex_piece_34_joint" type="fixed">
    <origin xyz="0 0 0" rpy="0 0 0"/>
    <parent link="link_handle~handle4_convex_piece_33"/>
    <child link="link_handle~handle4_convex_piece_34"/>
  </joint>
  <link name="link_handle~handle4_convex_piece_35">
    <inertial>
      <origin xyz="0 0 0" rpy="0 0 0"/>
      <mass value="1.69E-04"/>
      <inertia ixx="1.62E-08" ixy="-4.46E-09" ixz="-2.24E-09" iyy="1.75E-08" iyz="-6.09E-09" izz="2.78E-08"/>
    </inertial>
    <visual>
      <origin xyz="0 0 0" rpy="0 0 0"/>
      <geometry>
        <mesh filename="handle~handle4_convex_piece_35.obj" scale="1.0000E+00 1.0000E+00 1.0000E+00"/>
      </geometry>
      <material name=""/>
    </visual>
    <collision>
      <origin xyz="0 0 0" rpy="0 0 0"/>
      <geometry>
        <mesh filename="handle~handle4_convex_piece_35.obj" scale="1.0000E+00 1.0000E+00 1.0000E+00"/>
      </geometry>
    </collision>
  </link>
  <joint name="link_handle~handle4_convex_piece_35_joint" type="fixed">
    <origin xyz="0 0 0" rpy="0 0 0"/>
    <parent link="link_handle~handle4_convex_piece_34"/>
    <child link="link_handle~handle4_convex_piece_35"/>
  </joint>
  <link name="link_handle~handle4_convex_piece_36">
    <inertial>
      <origin xyz="0 0 0" rpy="0 0 0"/>
      <mass value="4.37E-04"/>
      <inertia ixx="1.49E-08" ixy="-1.83E-08" ixz="-1.32E-08" iyy="6.02E-08" iyz="-6.14E-09" izz="6.64E-08"/>
    </inertial>
    <visual>
      <origin xyz="0 0 0" rpy="0 0 0"/>
      <geometry>
        <mesh filename="handle~handle4_convex_piece_36.obj" scale="1.0000E+00 1.0000E+00 1.0000E+00"/>
      </geometry>
      <material name=""/>
    </visual>
    <collision>
      <origin xyz="0 0 0" rpy="0 0 0"/>
      <geometry>
        <mesh filename="handle~handle4_convex_piece_36.obj" scale="1.0000E+00 1.0000E+00 1.0000E+00"/>
      </geometry>
    </collision>
  </link>
  <joint name="link_handle~handle4_convex_piece_36_joint" type="fixed">
    <origin xyz="0 0 0" rpy="0 0 0"/>
    <parent link="link_handle~handle4_convex_piece_35"/>
    <child link="link_handle~handle4_convex_piece_36"/>
  </joint>
  <link name="link_handle~handle4_convex_piece_37">
    <inertial>
      <origin xyz="0 0 0" rpy="0 0 0"/>
      <mass value="8.27E-05"/>
      <inertia ixx="1.98E-09" ixy="-2.26E-08" ixz="-1.14E-08" iyy="3.39E-07" iyz="-7.80E-10" izz="3.41E-07"/>
    </inertial>
    <visual>
      <origin xyz="0 0 0" rpy="0 0 0"/>
      <geometry>
        <mesh filename="handle~handle4_convex_piece_37.obj" scale="1.0000E+00 1.0000E+00 1.0000E+00"/>
      </geometry>
      <material name=""/>
    </visual>
    <collision>
      <origin xyz="0 0 0" rpy="0 0 0"/>
      <geometry>
        <mesh filename="handle~handle4_convex_piece_37.obj" scale="1.0000E+00 1.0000E+00 1.0000E+00"/>
      </geometry>
    </collision>
  </link>
  <joint name="link_handle~handle4_convex_piece_37_joint" type="fixed">
    <origin xyz="0 0 0" rpy="0 0 0"/>
    <parent link="link_handle~handle4_convex_piece_36"/>
    <child link="link_handle~handle4_convex_piece_37"/>
  </joint>
  <link name="link_handle~handle4_convex_piece_38">
    <inertial>
      <origin xyz="0 0 0" rpy="0 0 0"/>
      <mass value="7.99E-05"/>
      <inertia ixx="4.12E-09" ixy="-2.59E-08" ixz="-1.02E-08" iyy="2.11E-07" iyz="-1.37E-09" izz="2.14E-07"/>
    </inertial>
    <visual>
      <origin xyz="0 0 0" rpy="0 0 0"/>
      <geometry>
        <mesh filename="handle~handle4_convex_piece_38.obj" scale="1.0000E+00 1.0000E+00 1.0000E+00"/>
      </geometry>
      <material name=""/>
    </visual>
    <collision>
      <origin xyz="0 0 0" rpy="0 0 0"/>
      <geometry>
        <mesh filename="handle~handle4_convex_piece_38.obj" scale="1.0000E+00 1.0000E+00 1.0000E+00"/>
      </geometry>
    </collision>
  </link>
  <joint name="link_handle~handle4_convex_piece_38_joint" type="fixed">
    <origin xyz="0 0 0" rpy="0 0 0"/>
    <parent link="link_handle~handle4_convex_piece_37"/>
    <child link="link_handle~handle4_convex_piece_38"/>
  </joint>
  <link name="link_handle~handle4_convex_piece_39">
    <inertial>
      <origin xyz="0 0 0" rpy="0 0 0"/>
      <mass value="1.60E-04"/>
      <inertia ixx="1.03E-08" ixy="4.69E-08" ixz="-2.40E-08" iyy="2.89E-07" iyz="4.18E-09" izz="2.95E-07"/>
    </inertial>
    <visual>
      <origin xyz="0 0 0" rpy="0 0 0"/>
      <geometry>
        <mesh filename="handle~handle4_convex_piece_39.obj" scale="1.0000E+00 1.0000E+00 1.0000E+00"/>
      </geometry>
      <material name=""/>
    </visual>
    <collision>
      <origin xyz="0 0 0" rpy="0 0 0"/>
      <geometry>
        <mesh filename="handle~handle4_convex_piece_39.obj" scale="1.0000E+00 1.0000E+00 1.0000E+00"/>
      </geometry>
    </collision>
  </link>
  <joint name="link_handle~handle4_convex_piece_39_joint" type="fixed">
    <origin xyz="0 0 0" rpy="0 0 0"/>
    <parent link="link_handle~handle4_convex_piece_38"/>
    <child link="link_handle~handle4_convex_piece_39"/>
  </joint>
  <link name="link_handle~handle4_convex_piece_40">
    <inertial>
      <origin xyz="0 0 0" rpy="0 0 0"/>
      <mass value="1.46E-04"/>
      <inertia ixx="5.48E-09" ixy="1.20E-08" ixz="-7.54E-09" iyy="4.51E-08" iyz="2.35E-09" izz="4.75E-08"/>
    </inertial>
    <visual>
      <origin xyz="0 0 0" rpy="0 0 0"/>
      <geometry>
        <mesh filename="handle~handle4_convex_piece_40.obj" scale="1.0000E+00 1.0000E+00 1.0000E+00"/>
      </geometry>
      <material name=""/>
    </visual>
    <collision>
      <origin xyz="0 0 0" rpy="0 0 0"/>
      <geometry>
        <mesh filename="handle~handle4_convex_piece_40.obj" scale="1.0000E+00 1.0000E+00 1.0000E+00"/>
      </geometry>
    </collision>
  </link>
  <joint name="link_handle~handle4_convex_piece_40_joint" type="fixed">
    <origin xyz="0 0 0" rpy="0 0 0"/>
    <parent link="link_handle~handle4_convex_piece_39"/>
    <child link="link_handle~handle4_convex_piece_40"/>
  </joint>
  <link name="link_handle~handle4_convex_piece_41">
    <inertial>
      <origin xyz="0 0 0" rpy="0 0 0"/>
      <mass value="6.87E-04"/>
      <inertia ixx="1.81E-08" ixy="1.19E-07" ixz="-1.31E-07" iyy="2.73E-06" iyz="7.14E-09" izz="2.73E-06"/>
    </inertial>
    <visual>
      <origin xyz="0 0 0" rpy="0 0 0"/>
      <geometry>
        <mesh filename="handle~handle4_convex_piece_41.obj" scale="1.0000E+00 1.0000E+00 1.0000E+00"/>
      </geometry>
      <material name=""/>
    </visual>
    <collision>
      <origin xyz="0 0 0" rpy="0 0 0"/>
      <geometry>
        <mesh filename="handle~handle4_convex_piece_41.obj" scale="1.0000E+00 1.0000E+00 1.0000E+00"/>
      </geometry>
    </collision>
  </link>
  <joint name="link_handle~handle4_convex_piece_41_joint" type="fixed">
    <origin xyz="0 0 0" rpy="0 0 0"/>
    <parent link="link_handle~handle4_convex_piece_40"/>
    <child link="link_handle~handle4_convex_piece_41"/>
  </joint>
  <link name="link_handle~handle4_convex_piece_42">
    <inertial>
      <origin xyz="0 0 0" rpy="0 0 0"/>
      <mass value="3.02E-04"/>
      <inertia ixx="7.59E-08" ixy="1.97E-08" ixz="-1.23E-07" iyy="2.85E-07" iyz="1.18E-08" izz="2.14E-07"/>
    </inertial>
    <visual>
      <origin xyz="0 0 0" rpy="0 0 0"/>
      <geometry>
        <mesh filename="handle~handle4_convex_piece_42.obj" scale="1.0000E+00 1.0000E+00 1.0000E+00"/>
      </geometry>
      <material name=""/>
    </visual>
    <collision>
      <origin xyz="0 0 0" rpy="0 0 0"/>
      <geometry>
        <mesh filename="handle~handle4_convex_piece_42.obj" scale="1.0000E+00 1.0000E+00 1.0000E+00"/>
      </geometry>
    </collision>
  </link>
  <joint name="link_handle~handle4_convex_piece_42_joint" type="fixed">
    <origin xyz="0 0 0" rpy="0 0 0"/>
    <parent link="link_handle~handle4_convex_piece_41"/>
    <child link="link_handle~handle4_convex_piece_42"/>
  </joint>
  <link name="link_handle~handle4_convex_piece_43">
    <inertial>
      <origin xyz="0 0 0" rpy="0 0 0"/>
      <mass value="4.19E-05"/>
      <inertia ixx="3.05E-08" ixy="9.54E-09" ixz="-3.51E-08" iyy="7.27E-08" iyz="7.64E-09" izz="4.65E-08"/>
    </inertial>
    <visual>
      <origin xyz="0 0 0" rpy="0 0 0"/>
      <geometry>
        <mesh filename="handle~handle4_convex_piece_43.obj" scale="1.0000E+00 1.0000E+00 1.0000E+00"/>
      </geometry>
      <material name=""/>
    </visual>
    <collision>
      <origin xyz="0 0 0" rpy="0 0 0"/>
      <geometry>
        <mesh filename="handle~handle4_convex_piece_43.obj" scale="1.0000E+00 1.0000E+00 1.0000E+00"/>
      </geometry>
    </collision>
  </link>
  <joint name="link_handle~handle4_convex_piece_43_joint" type="fixed">
    <origin xyz="0 0 0" rpy="0 0 0"/>
    <parent link="link_handle~handle4_convex_piece_42"/>
    <child link="link_handle~handle4_convex_piece_43"/>
  </joint>
  <link name="link_handle~handle4_convex_piece_44">
    <inertial>
      <origin xyz="0 0 0" rpy="0 0 0"/>
      <mass value="1.75E-03"/>
      <inertia ixx="2.36E-07" ixy="1.32E-07" ixz="2.51E-07" iyy="5.95E-07" iyz="-8.61E-08" izz="4.83E-07"/>
    </inertial>
    <visual>
      <origin xyz="0 0 0" rpy="0 0 0"/>
      <geometry>
        <mesh filename="handle~handle4_convex_piece_44.obj" scale="1.0000E+00 1.0000E+00 1.0000E+00"/>
      </geometry>
      <material name=""/>
    </visual>
    <collision>
      <origin xyz="0 0 0" rpy="0 0 0"/>
      <geometry>
        <mesh filename="handle~handle4_convex_piece_44.obj" scale="1.0000E+00 1.0000E+00 1.0000E+00"/>
      </geometry>
    </collision>
  </link>
  <joint name="link_handle~handle4_convex_piece_44_joint" type="fixed">
    <origin xyz="0 0 0" rpy="0 0 0"/>
    <parent link="link_handle~handle4_convex_piece_43"/>
    <child link="link_handle~handle4_convex_piece_44"/>
  </joint>
  <link name="link_handle~handle4_convex_piece_45">
    <inertial>
      <origin xyz="0 0 0" rpy="0 0 0"/>
      <mass value="1.14E-03"/>
      <inertia ixx="5.04E-07" ixy="-3.11E-07" ixz="-7.15E-07" iyy="1.72E-06" iyz="-1.77E-07" izz="1.37E-06"/>
    </inertial>
    <visual>
      <origin xyz="0 0 0" rpy="0 0 0"/>
      <geometry>
        <mesh filename="handle~handle4_convex_piece_45.obj" scale="1.0000E+00 1.0000E+00 1.0000E+00"/>
      </geometry>
      <material name=""/>
    </visual>
    <collision>
      <origin xyz="0 0 0" rpy="0 0 0"/>
      <geometry>
        <mesh filename="handle~handle4_convex_piece_45.obj" scale="1.0000E+00 1.0000E+00 1.0000E+00"/>
      </geometry>
    </collision>
  </link>
  <joint name="link_handle~handle4_convex_piece_45_joint" type="fixed">
    <origin xyz="0 0 0" rpy="0 0 0"/>
    <parent link="link_handle~handle4_convex_piece_44"/>
    <child link="link_handle~handle4_convex_piece_45"/>
  </joint>
  <link name="link_handle~handle4_convex_piece_46">
    <inertial>
      <origin xyz="0 0 0" rpy="0 0 0"/>
      <mass value="1.04E-03"/>
      <inertia ixx="3.66E-08" ixy="4.78E-08" ixz="3.91E-08" iyy="2.03E-07" iyz="-1.46E-08" izz="2.14E-07"/>
    </inertial>
    <visual>
      <origin xyz="0 0 0" rpy="0 0 0"/>
      <geometry>
        <mesh filename="handle~handle4_convex_piece_46.obj" scale="1.0000E+00 1.0000E+00 1.0000E+00"/>
      </geometry>
      <material name=""/>
    </visual>
    <collision>
      <origin xyz="0 0 0" rpy="0 0 0"/>
      <geometry>
        <mesh filename="handle~handle4_convex_piece_46.obj" scale="1.0000E+00 1.0000E+00 1.0000E+00"/>
      </geometry>
    </collision>
  </link>
  <joint name="link_handle~handle4_convex_piece_46_joint" type="fixed">
    <origin xyz="0 0 0" rpy="0 0 0"/>
    <parent link="link_handle~handle4_convex_piece_45"/>
    <child link="link_handle~handle4_convex_piece_46"/>
  </joint>
  <link name="link_handle~handle4_convex_piece_47">
    <inertial>
      <origin xyz="0 0 0" rpy="0 0 0"/>
      <mass value="1.02E-03"/>
      <inertia ixx="2.81E-08" ixy="-9.16E-08" ixz="-1.05E-07" iyy="1.31E-06" iyz="-1.02E-08" izz="1.31E-06"/>
    </inertial>
    <visual>
      <origin xyz="0 0 0" rpy="0 0 0"/>
      <geometry>
        <mesh filename="handle~handle4_convex_piece_47.obj" scale="1.0000E+00 1.0000E+00 1.0000E+00"/>
      </geometry>
      <material name=""/>
    </visual>
    <collision>
      <origin xyz="0 0 0" rpy="0 0 0"/>
      <geometry>
        <mesh filename="handle~handle4_convex_piece_47.obj" scale="1.0000E+00 1.0000E+00 1.0000E+00"/>
      </geometry>
    </collision>
  </link>
  <joint name="link_handle~handle4_convex_piece_47_joint" type="fixed">
    <origin xyz="0 0 0" rpy="0 0 0"/>
    <parent link="link_handle~handle4_convex_piece_46"/>
    <child link="link_handle~handle4_convex_piece_47"/>
  </joint>
  <link name="link_handle~handle4_convex_piece_48">
    <inertial>
      <origin xyz="0 0 0" rpy="0 0 0"/>
      <mass value="2.59E-04"/>
      <inertia ixx="1.71E-08" ixy="-1.02E-07" ixz="-5.98E-08" iyy="8.84E-07" iyz="-7.39E-09" izz="8.92E-07"/>
    </inertial>
    <visual>
      <origin xyz="0 0 0" rpy="0 0 0"/>
      <geometry>
        <mesh filename="handle~handle4_convex_piece_48.obj" scale="1.0000E+00 1.0000E+00 1.0000E+00"/>
      </geometry>
      <material name=""/>
    </visual>
    <collision>
      <origin xyz="0 0 0" rpy="0 0 0"/>
      <geometry>
        <mesh filename="handle~handle4_convex_piece_48.obj" scale="1.0000E+00 1.0000E+00 1.0000E+00"/>
      </geometry>
    </collision>
  </link>
  <joint name="link_handle~handle4_convex_piece_48_joint" type="fixed">
    <origin xyz="0 0 0" rpy="0 0 0"/>
    <parent link="link_handle~handle4_convex_piece_47"/>
    <child link="link_handle~handle4_convex_piece_48"/>
  </joint>
  <link name="link_handle~handle4_convex_piece_49">
    <inertial>
      <origin xyz="0 0 0" rpy="0 0 0"/>
      <mass value="1.62E-03"/>
      <inertia ixx="8.37E-08" ixy="2.47E-09" ixz="-1.36E-07" iyy="1.11E-06" iyz="2.75E-10" izz="1.14E-06"/>
    </inertial>
    <visual>
      <origin xyz="0 0 0" rpy="0 0 0"/>
      <geometry>
        <mesh filename="handle~handle4_convex_piece_49.obj" scale="1.0000E+00 1.0000E+00 1.0000E+00"/>
      </geometry>
      <material name=""/>
    </visual>
    <collision>
      <origin xyz="0 0 0" rpy="0 0 0"/>
      <geometry>
        <mesh filename="handle~handle4_convex_piece_49.obj" scale="1.0000E+00 1.0000E+00 1.0000E+00"/>
      </geometry>
    </collision>
  </link>
  <joint name="link_handle~handle4_convex_piece_49_joint" type="fixed">
    <origin xyz="0 0 0" rpy="0 0 0"/>
    <parent link="link_handle~handle4_convex_piece_48"/>
    <child link="link_handle~handle4_convex_piece_49"/>
  </joint>
  <link name="link_handle~handle4_convex_piece_50">
    <inertial>
      <origin xyz="0 0 0" rpy="0 0 0"/>
      <mass value="2.92E-04"/>
      <inertia ixx="7.21E-08" ixy="-2.46E-08" ixz="-1.17E-07" iyy="2.72E-07" iyz="-1.44E-08" izz="2.07E-07"/>
    </inertial>
    <visual>
      <origin xyz="0 0 0" rpy="0 0 0"/>
      <geometry>
        <mesh filename="handle~handle4_convex_piece_50.obj" scale="1.0000E+00 1.0000E+00 1.0000E+00"/>
      </geometry>
      <material name=""/>
    </visual>
    <collision>
      <origin xyz="0 0 0" rpy="0 0 0"/>
      <geometry>
        <mesh filename="handle~handle4_convex_piece_50.obj" scale="1.0000E+00 1.0000E+00 1.0000E+00"/>
      </geometry>
    </collision>
  </link>
  <joint name="link_handle~handle4_convex_piece_50_joint" type="fixed">
    <origin xyz="0 0 0" rpy="0 0 0"/>
    <parent link="link_handle~handle4_convex_piece_49"/>
    <child link="link_handle~handle4_convex_piece_50"/>
  </joint>
  <link name="link_handle~handle4_convex_piece_51">
    <inertial>
      <origin xyz="0 0 0" rpy="0 0 0"/>
      <mass value="4.64E-04"/>
      <inertia ixx="1.52E-08" ixy="-1.63E-08" ixz="-1.52E-07" iyy="2.82E-06" iyz="-1.07E-09" izz="2.82E-06"/>
    </inertial>
    <visual>
      <origin xyz="0 0 0" rpy="0 0 0"/>
      <geometry>
        <mesh filename="handle~handle4_convex_piece_51.obj" scale="1.0000E+00 1.0000E+00 1.0000E+00"/>
      </geometry>
      <material name=""/>
    </visual>
    <collision>
      <origin xyz="0 0 0" rpy="0 0 0"/>
      <geometry>
        <mesh filename="handle~handle4_convex_piece_51.obj" scale="1.0000E+00 1.0000E+00 1.0000E+00"/>
      </geometry>
    </collision>
  </link>
  <joint name="link_handle~handle4_convex_piece_51_joint" type="fixed">
    <origin xyz="0 0 0" rpy="0 0 0"/>
    <parent link="link_handle~handle4_convex_piece_50"/>
    <child link="link_handle~handle4_convex_piece_51"/>
  </joint>
  <link name="link_handle~handle4_convex_piece_52">
    <inertial>
      <origin xyz="0 0 0" rpy="0 0 0"/>
      <mass value="1.82E-04"/>
      <inertia ixx="7.00E-08" ixy="2.41E-08" ixz="-9.36E-08" iyy="2.65E-07" iyz="1.15E-08" izz="2.00E-07"/>
    </inertial>
    <visual>
      <origin xyz="0 0 0" rpy="0 0 0"/>
      <geometry>
        <mesh filename="handle~handle4_convex_piece_52.obj" scale="1.0000E+00 1.0000E+00 1.0000E+00"/>
      </geometry>
      <material name=""/>
    </visual>
    <collision>
      <origin xyz="0 0 0" rpy="0 0 0"/>
      <geometry>
        <mesh filename="handle~handle4_convex_piece_52.obj" scale="1.0000E+00 1.0000E+00 1.0000E+00"/>
      </geometry>
    </collision>
  </link>
  <joint name="link_handle~handle4_convex_piece_52_joint" type="fixed">
    <origin xyz="0 0 0" rpy="0 0 0"/>
    <parent link="link_handle~handle4_convex_piece_51"/>
    <child link="link_handle~handle4_convex_piece_52"/>
  </joint>
  <link name="link_handle~handle4_convex_piece_53">
    <inertial>
      <origin xyz="0 0 0" rpy="0 0 0"/>
      <mass value="2.14E-04"/>
      <inertia ixx="2.05E-07" ixy="2.10E-08" ixz="-2.44E-07" iyy="5.00E-07" iyz="1.75E-08" izz="2.98E-07"/>
    </inertial>
    <visual>
      <origin xyz="0 0 0" rpy="0 0 0"/>
      <geometry>
        <mesh filename="handle~handle4_convex_piece_53.obj" scale="1.0000E+00 1.0000E+00 1.0000E+00"/>
      </geometry>
      <material name=""/>
    </visual>
    <collision>
      <origin xyz="0 0 0" rpy="0 0 0"/>
      <geometry>
        <mesh filename="handle~handle4_convex_piece_53.obj" scale="1.0000E+00 1.0000E+00 1.0000E+00"/>
      </geometry>
    </collision>
  </link>
  <joint name="link_handle~handle4_convex_piece_53_joint" type="fixed">
    <origin xyz="0 0 0" rpy="0 0 0"/>
    <parent link="link_handle~handle4_convex_piece_52"/>
    <child link="link_handle~handle4_convex_piece_53"/>
  </joint>
  <link name="link_handle~handle4_convex_piece_54">
    <inertial>
      <origin xyz="0 0 0" rpy="0 0 0"/>
      <mass value="3.63E-04"/>
      <inertia ixx="2.85E-07" ixy="2.64E-08" ixz="-2.86E-07" iyy="5.80E-07" iyz="2.55E-08" izz="3.00E-07"/>
    </inertial>
    <visual>
      <origin xyz="0 0 0" rpy="0 0 0"/>
      <geometry>
        <mesh filename="handle~handle4_convex_piece_54.obj" scale="1.0000E+00 1.0000E+00 1.0000E+00"/>
      </geometry>
      <material name=""/>
    </visual>
    <collision>
      <origin xyz="0 0 0" rpy="0 0 0"/>
      <geometry>
        <mesh filename="handle~handle4_convex_piece_54.obj" scale="1.0000E+00 1.0000E+00 1.0000E+00"/>
      </geometry>
    </collision>
  </link>
  <joint name="link_handle~handle4_convex_piece_54_joint" type="fixed">
    <origin xyz="0 0 0" rpy="0 0 0"/>
    <parent link="link_handle~handle4_convex_piece_53"/>
    <child link="link_handle~handle4_convex_piece_54"/>
  </joint>
  <link name="link_handle~handle4_convex_piece_55">
    <inertial>
      <origin xyz="0 0 0" rpy="0 0 0"/>
      <mass value="2.66E-04"/>
      <inertia ixx="2.58E-07" ixy="4.80E-08" ixz="-2.73E-07" iyy="5.54E-07" iyz="4.32E-08" izz="3.12E-07"/>
    </inertial>
    <visual>
      <origin xyz="0 0 0" rpy="0 0 0"/>
      <geometry>
        <mesh filename="handle~handle4_convex_piece_55.obj" scale="1.0000E+00 1.0000E+00 1.0000E+00"/>
      </geometry>
      <material name=""/>
    </visual>
    <collision>
      <origin xyz="0 0 0" rpy="0 0 0"/>
      <geometry>
        <mesh filename="handle~handle4_convex_piece_55.obj" scale="1.0000E+00 1.0000E+00 1.0000E+00"/>
      </geometry>
    </collision>
  </link>
  <joint name="link_handle~handle4_convex_piece_55_joint" type="fixed">
    <origin xyz="0 0 0" rpy="0 0 0"/>
    <parent link="link_handle~handle4_convex_piece_54"/>
    <child link="link_handle~handle4_convex_piece_55"/>
  </joint>
  <link name="link_handle~handle4_convex_piece_56">
    <inertial>
      <origin xyz="0 0 0" rpy="0 0 0"/>
      <mass value="4.65E-03"/>
      <inertia ixx="5.23E-07" ixy="-3.92E-07" ixz="5.22E-07" iyy="1.78E-06" iyz="1.96E-07" izz="1.62E-06"/>
    </inertial>
    <visual>
      <origin xyz="0 0 0" rpy="0 0 0"/>
      <geometry>
        <mesh filename="handle~handle4_convex_piece_56.obj" scale="1.0000E+00 1.0000E+00 1.0000E+00"/>
      </geometry>
      <material name=""/>
    </visual>
    <collision>
      <origin xyz="0 0 0" rpy="0 0 0"/>
      <geometry>
        <mesh filename="handle~handle4_convex_piece_56.obj" scale="1.0000E+00 1.0000E+00 1.0000E+00"/>
      </geometry>
    </collision>
  </link>
  <joint name="link_handle~handle4_convex_piece_56_joint" type="fixed">
    <origin xyz="0 0 0" rpy="0 0 0"/>
    <parent link="link_handle~handle4_convex_piece_55"/>
    <child link="link_handle~handle4_convex_piece_56"/>
  </joint>
  <link name="link_handle~handle4_convex_piece_57">
    <inertial>
      <origin xyz="0 0 0" rpy="0 0 0"/>
      <mass value="7.59E-04"/>
      <inertia ixx="8.76E-08" ixy="2.43E-07" ixz="-4.07E-07" iyy="3.03E-06" iyz="3.38E-08" izz="2.99E-06"/>
    </inertial>
    <visual>
      <origin xyz="0 0 0" rpy="0 0 0"/>
      <geometry>
        <mesh filename="handle~handle4_convex_piece_57.obj" scale="1.0000E+00 1.0000E+00 1.0000E+00"/>
      </geometry>
      <material name=""/>
    </visual>
    <collision>
      <origin xyz="0 0 0" rpy="0 0 0"/>
      <geometry>
        <mesh filename="handle~handle4_convex_piece_57.obj" scale="1.0000E+00 1.0000E+00 1.0000E+00"/>
      </geometry>
    </collision>
  </link>
  <joint name="link_handle~handle4_convex_piece_57_joint" type="fixed">
    <origin xyz="0 0 0" rpy="0 0 0"/>
    <parent link="link_handle~handle4_convex_piece_56"/>
    <child link="link_handle~handle4_convex_piece_57"/>
  </joint>
  <link name="link_handle~handle4_convex_piece_58">
    <inertial>
      <origin xyz="0 0 0" rpy="0 0 0"/>
      <mass value="3.18E-03"/>
      <inertia ixx="3.87E-07" ixy="-7.10E-08" ixz="-1.73E-07" iyy="5.83E-07" iyz="-1.25E-07" izz="3.73E-07"/>
    </inertial>
    <visual>
      <origin xyz="0 0 0" rpy="0 0 0"/>
      <geometry>
        <mesh filename="handle~handle4_convex_piece_58.obj" scale="1.0000E+00 1.0000E+00 1.0000E+00"/>
      </geometry>
      <material name=""/>
    </visual>
    <collision>
      <origin xyz="0 0 0" rpy="0 0 0"/>
      <geometry>
        <mesh filename="handle~handle4_convex_piece_58.obj" scale="1.0000E+00 1.0000E+00 1.0000E+00"/>
      </geometry>
    </collision>
  </link>
  <joint name="link_handle~handle4_convex_piece_58_joint" type="fixed">
    <origin xyz="0 0 0" rpy="0 0 0"/>
    <parent link="link_handle~handle4_convex_piece_57"/>
    <child link="link_handle~handle4_convex_piece_58"/>
  </joint>
  <link name="link_handle~handle4_convex_piece_59">
    <inertial>
      <origin xyz="0 0 0" rpy="0 0 0"/>
      <mass value="1.89E-04"/>
      <inertia ixx="3.51E-09" ixy="-3.07E-09" ixz="1.99E-08" iyy="2.07E-07" iyz="1.18E-10" izz="2.06E-07"/>
    </inertial>
    <visual>
      <origin xyz="0 0 0" rpy="0 0 0"/>
      <geometry>
        <mesh filename="handle~handle4_convex_piece_59.obj" scale="1.0000E+00 1.0000E+00 1.0000E+00"/>
      </geometry>
      <material name=""/>
    </visual>
    <collision>
      <origin xyz="0 0 0" rpy="0 0 0"/>
      <geometry>
        <mesh filename="handle~handle4_convex_piece_59.obj" scale="1.0000E+00 1.0000E+00 1.0000E+00"/>
      </geometry>
    </collision>
  </link>
  <joint name="link_handle~handle4_convex_piece_59_joint" type="fixed">
    <origin xyz="0 0 0" rpy="0 0 0"/>
    <parent link="link_handle~handle4_convex_piece_58"/>
    <child link="link_handle~handle4_convex_piece_59"/>
  </joint>
  <link name="link_handle~handle4_convex_piece_60">
    <inertial>
      <origin xyz="0 0 0" rpy="0 0 0"/>
      <mass value="4.02E-04"/>
      <inertia ixx="2.12E-07" ixy="-1.26E-08" ixz="-2.24E-07" iyy="4.51E-07" iyz="-1.13E-08" izz="2.48E-07"/>
    </inertial>
    <visual>
      <origin xyz="0 0 0" rpy="0 0 0"/>
      <geometry>
        <mesh filename="handle~handle4_convex_piece_60.obj" scale="1.0000E+00 1.0000E+00 1.0000E+00"/>
      </geometry>
      <material name=""/>
    </visual>
    <collision>
      <origin xyz="0 0 0" rpy="0 0 0"/>
      <geometry>
        <mesh filename="handle~handle4_convex_piece_60.obj" scale="1.0000E+00 1.0000E+00 1.0000E+00"/>
      </geometry>
    </collision>
  </link>
  <joint name="link_handle~handle4_convex_piece_60_joint" type="fixed">
    <origin xyz="0 0 0" rpy="0 0 0"/>
    <parent link="link_handle~handle4_convex_piece_59"/>
    <child link="link_handle~handle4_convex_piece_60"/>
  </joint>
  <link name="link_handle~handle4_convex_piece_61">
    <inertial>
      <origin xyz="0 0 0" rpy="0 0 0"/>
      <mass value="1.07E-04"/>
      <inertia ixx="5.36E-09" ixy="2.99E-08" ixz="-1.16E-08" iyy="2.36E-07" iyz="1.75E-09" izz="2.40E-07"/>
    </inertial>
    <visual>
      <origin xyz="0 0 0" rpy="0 0 0"/>
      <geometry>
        <mesh filename="handle~handle4_convex_piece_61.obj" scale="1.0000E+00 1.0000E+00 1.0000E+00"/>
      </geometry>
      <material name=""/>
    </visual>
    <collision>
      <origin xyz="0 0 0" rpy="0 0 0"/>
      <geometry>
        <mesh filename="handle~handle4_convex_piece_61.obj" scale="1.0000E+00 1.0000E+00 1.0000E+00"/>
      </geometry>
    </collision>
  </link>
  <joint name="link_handle~handle4_convex_piece_61_joint" type="fixed">
    <origin xyz="0 0 0" rpy="0 0 0"/>
    <parent link="link_handle~handle4_convex_piece_60"/>
    <child link="link_handle~handle4_convex_piece_61"/>
  </joint>
  <link name="link_handle~handle4_convex_piece_62">
    <inertial>
      <origin xyz="0 0 0" rpy="0 0 0"/>
      <mass value="2.34E-04"/>
      <inertia ixx="1.57E-07" ixy="-2.27E-08" ixz="-1.72E-07" iyy="3.49E-07" iyz="-2.00E-08" izz="1.99E-07"/>
    </inertial>
    <visual>
      <origin xyz="0 0 0" rpy="0 0 0"/>
      <geometry>
        <mesh filename="handle~handle4_convex_piece_62.obj" scale="1.0000E+00 1.0000E+00 1.0000E+00"/>
      </geometry>
      <material name=""/>
    </visual>
    <collision>
      <origin xyz="0 0 0" rpy="0 0 0"/>
      <geometry>
        <mesh filename="handle~handle4_convex_piece_62.obj" scale="1.0000E+00 1.0000E+00 1.0000E+00"/>
      </geometry>
    </collision>
  </link>
  <joint name="link_handle~handle4_convex_piece_62_joint" type="fixed">
    <origin xyz="0 0 0" rpy="0 0 0"/>
    <parent link="link_handle~handle4_convex_piece_61"/>
    <child link="link_handle~handle4_convex_piece_62"/>
  </joint>
  <link name="link_handle~handle4_convex_piece_63">
    <inertial>
      <origin xyz="0 0 0" rpy="0 0 0"/>
      <mass value="5.14E-03"/>
      <inertia ixx="7.34E-07" ixy="-9.18E-10" ixz="-1.84E-06" iyy="7.16E-06" iyz="-1.36E-10" izz="6.74E-06"/>
    </inertial>
    <visual>
      <origin xyz="0 0 0" rpy="0 0 0"/>
      <geometry>
        <mesh filename="handle~handle4_convex_piece_63.obj" scale="1.0000E+00 1.0000E+00 1.0000E+00"/>
      </geometry>
      <material name=""/>
    </visual>
    <collision>
      <origin xyz="0 0 0" rpy="0 0 0"/>
      <geometry>
        <mesh filename="handle~handle4_convex_piece_63.obj" scale="1.0000E+00 1.0000E+00 1.0000E+00"/>
      </geometry>
    </collision>
  </link>
  <joint name="link_handle~handle4_convex_piece_63_joint" type="fixed">
    <origin xyz="0 0 0" rpy="0 0 0"/>
    <parent link="link_handle~handle4_convex_piece_62"/>
    <child link="link_handle~handle4_convex_piece_63"/>
  </joint>
</robot>
